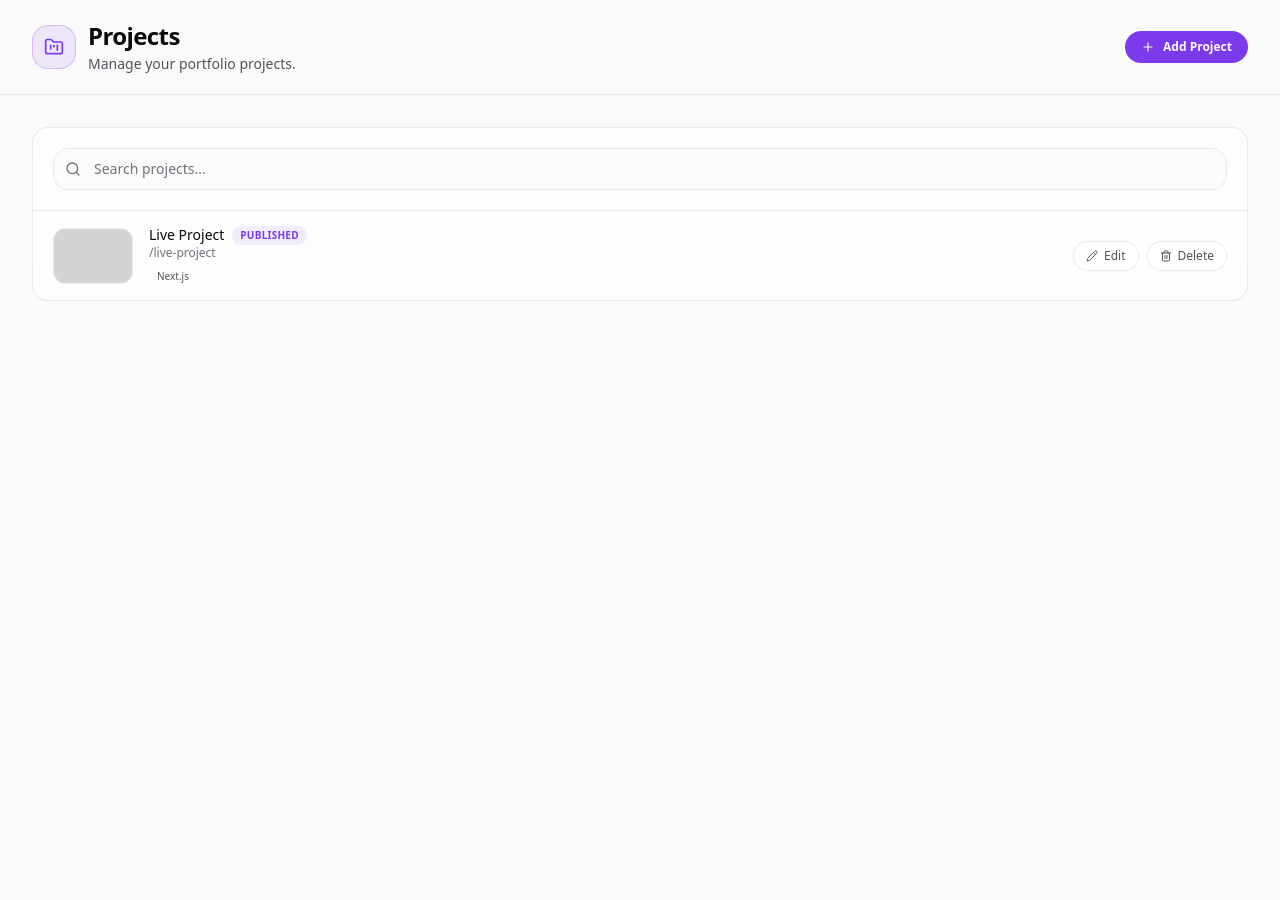
Test: ProjectsList setelah migrasi ke ConfirmActionDialog › klik Delete membuka dialog konfirmasi tanpa langsung menghapus
What coordinates should you click on to do the following:
click the button "Delete"
I would click on:
 (1187, 256)
Its box is [1146,240,1227,270].
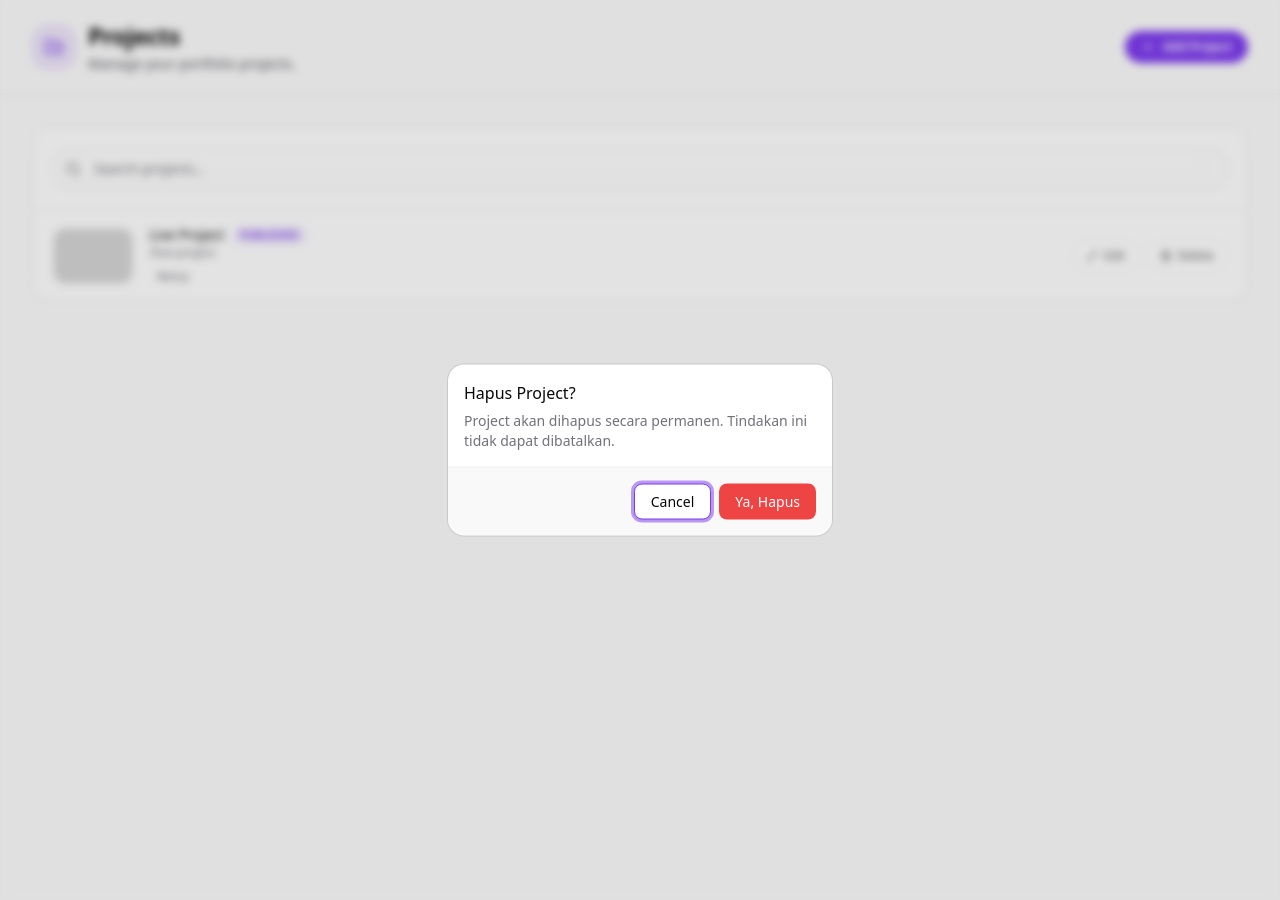
Expected: the heading "Hapus Project?" is shown, [464,380,576,404]
Expected: the text "Project akan dihapus secara permanen. Tindakan ini tidak dapat dibatalkan." is shown, [464,410,816,450]
